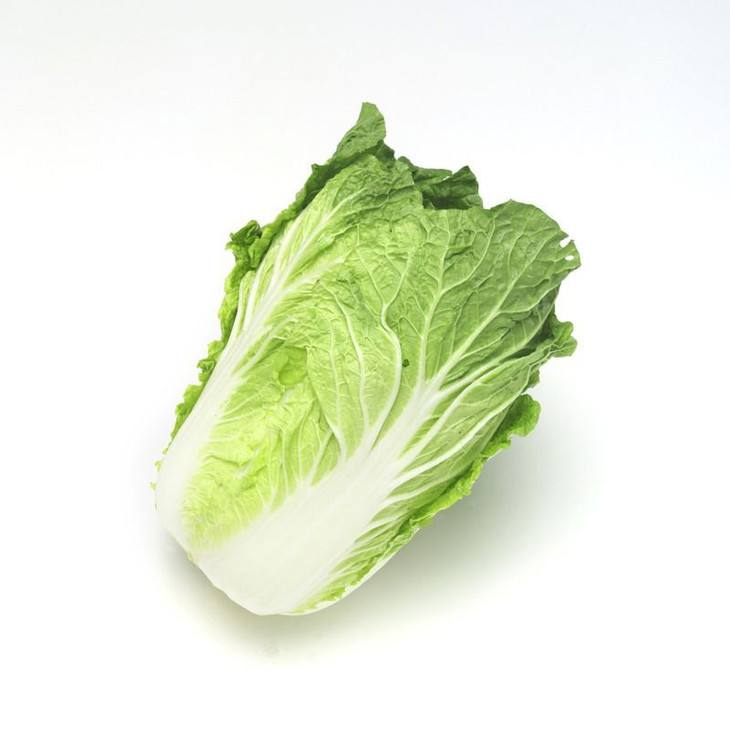baicai: (141, 99, 584, 623)
